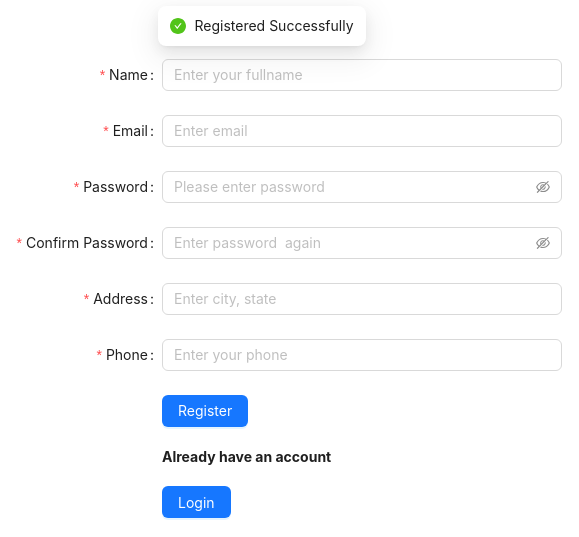
Scenario: Testing Register Page › if user already exist
The image size is (579, 537).
Type "John Doe" into the field labelled "Name" at (362, 75), box [162, 59, 562, 91]
Type "john.doe@example.com" into the field labelled "Email" at (362, 131), box [162, 115, 562, 147]
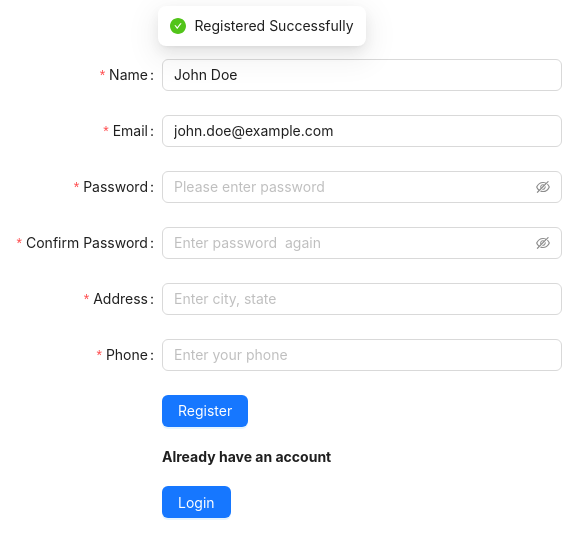
Type "password" into the password field labelled "Password" at (353, 187), box [174, 176, 532, 198]
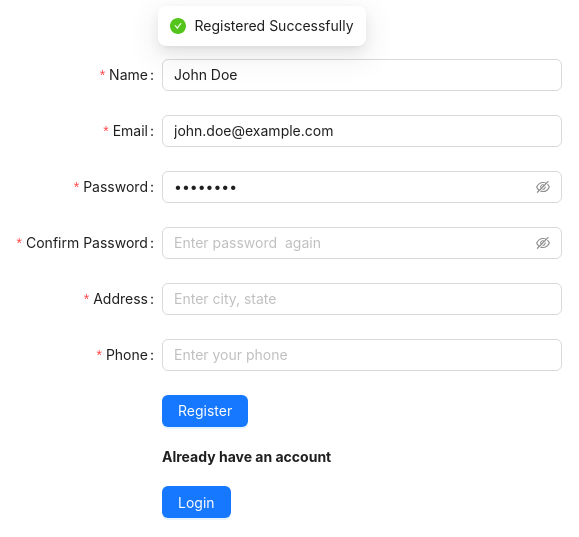
Type "password" into the password field labelled "Confirm Password" at (353, 243), box [174, 232, 532, 254]
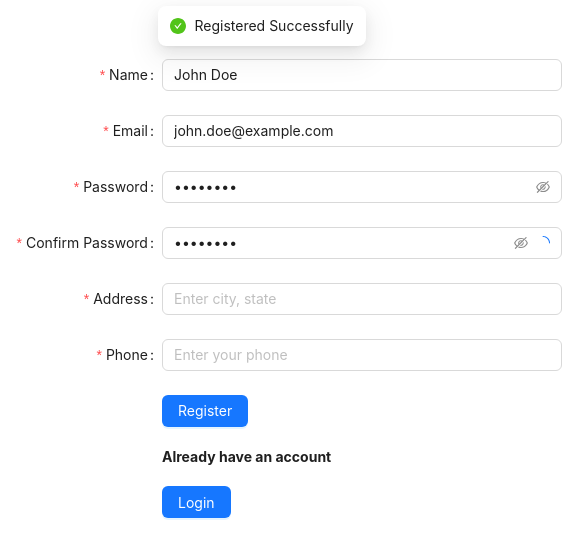
Type "123 Main St" into the field labelled "Address" at (362, 299), box [162, 283, 562, 315]
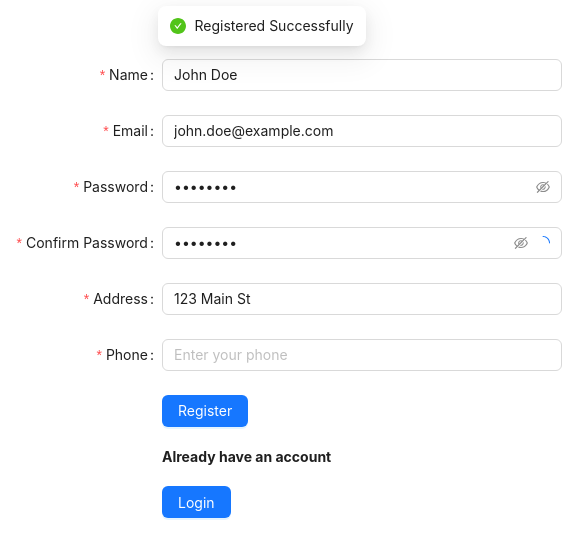
Type "1234567890" into the field labelled "Phone" at (362, 355), box [162, 339, 562, 371]
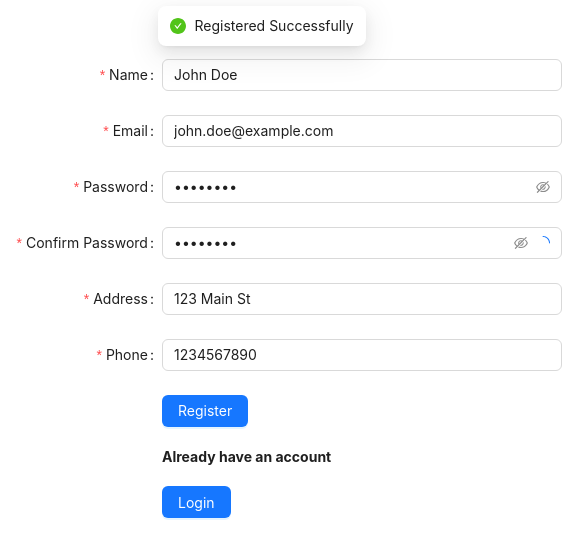
Click the button "Register" at (205, 411), box [162, 395, 248, 427]
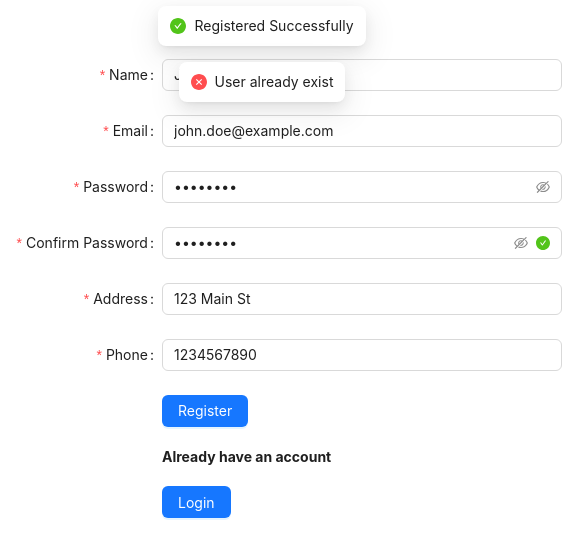
Expected: the text "User already exist" is shown, [214, 71, 333, 93]
